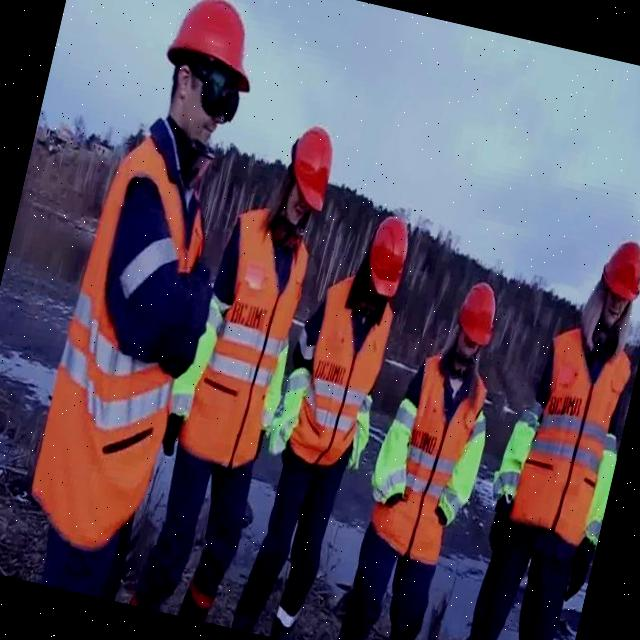vest: (18, 126, 226, 558), (185, 195, 314, 472), (502, 318, 629, 544), (363, 348, 485, 566), (287, 256, 405, 474), (170, 284, 230, 426), (431, 405, 492, 529), (367, 390, 429, 509), (490, 398, 541, 506), (576, 426, 622, 545), (272, 362, 315, 444), (259, 342, 293, 432), (346, 392, 378, 466)
